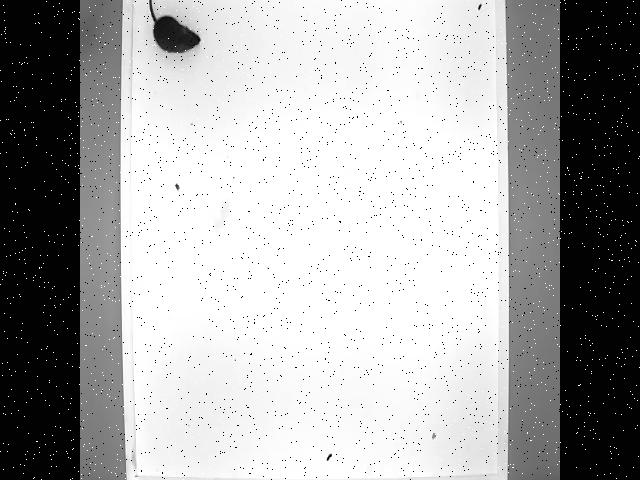Tikus: (145, 0, 201, 57)
